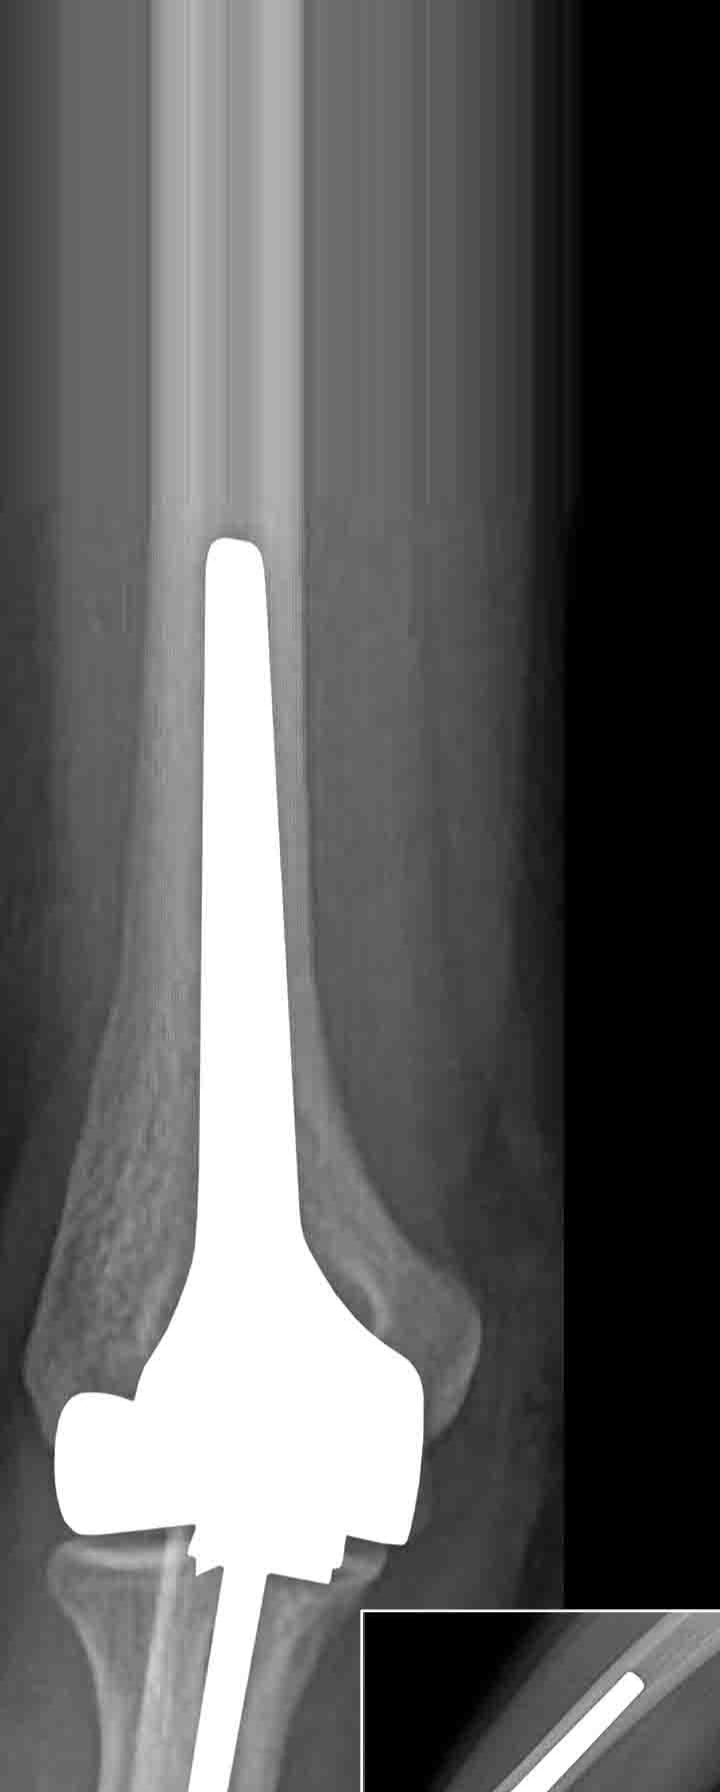Elbow - IBP - Biomet: (21, 523, 442, 1792)
